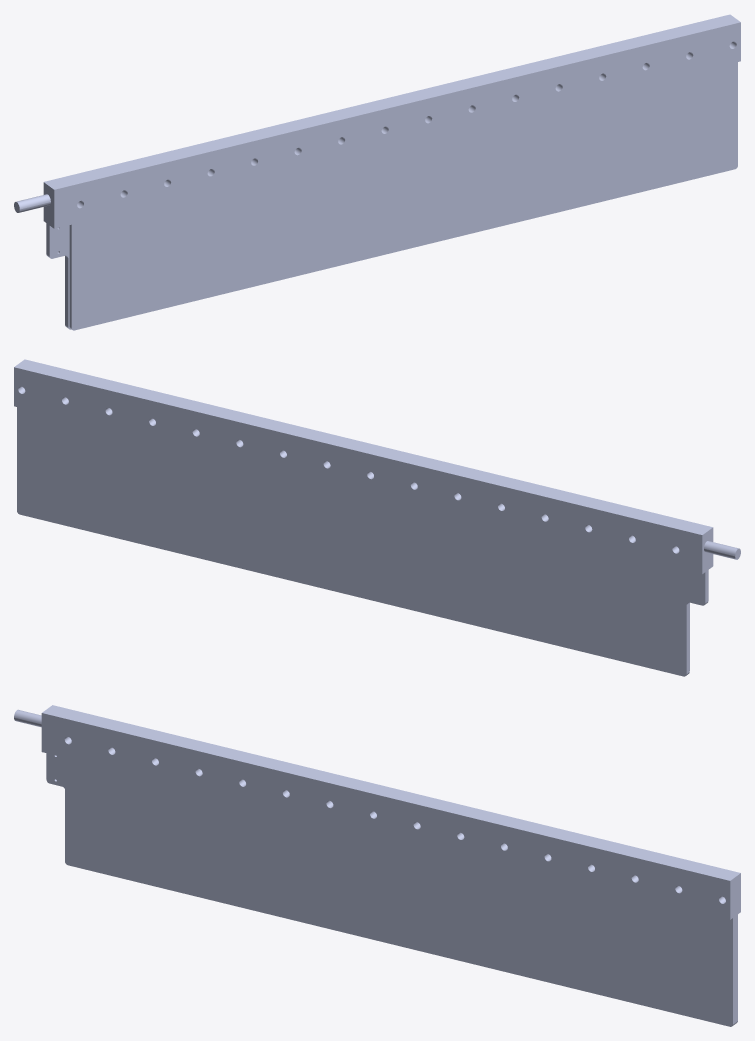
File: MUB-15.glb
3 renders of one model, top to bottom at view 1: azimuth 30°, elevation 25°; view 2: azimuth 150°, elevation 25°; view 3: azimuth 330°, elevation 25°, orthographic.
Parts seen in each view (by area): view 1: MUB-15_node_1; view 2: MUB-15_node_1; view 3: MUB-15_node_1.
Boxes of the visible parts, x1=… form: MUB-15_node_1: x1=14, y1=14, x2=740, y2=330; MUB-15_node_1: x1=14, y1=359, x2=740, y2=676; MUB-15_node_1: x1=14, y1=705, x2=740, y2=1026.
Bounding box in the file's own units: 462 × 91.3 × 12.
